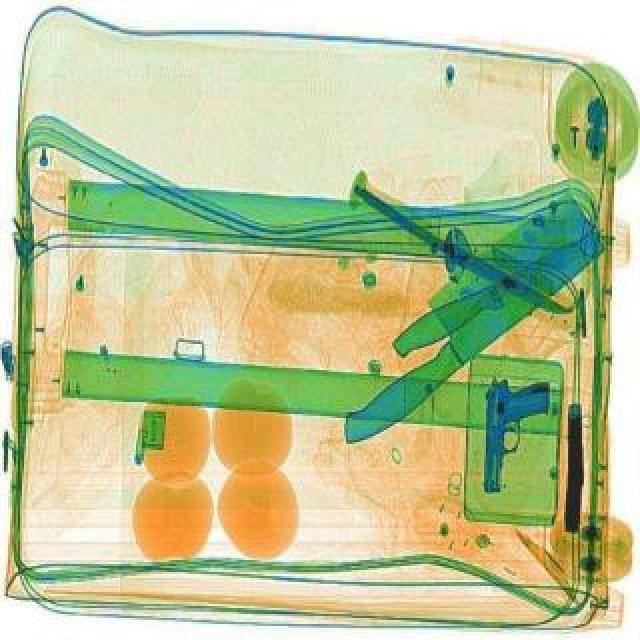gun: (482, 376, 552, 494), (562, 402, 592, 532)
knife: (304, 182, 622, 452), (388, 210, 614, 362), (348, 184, 576, 320)
